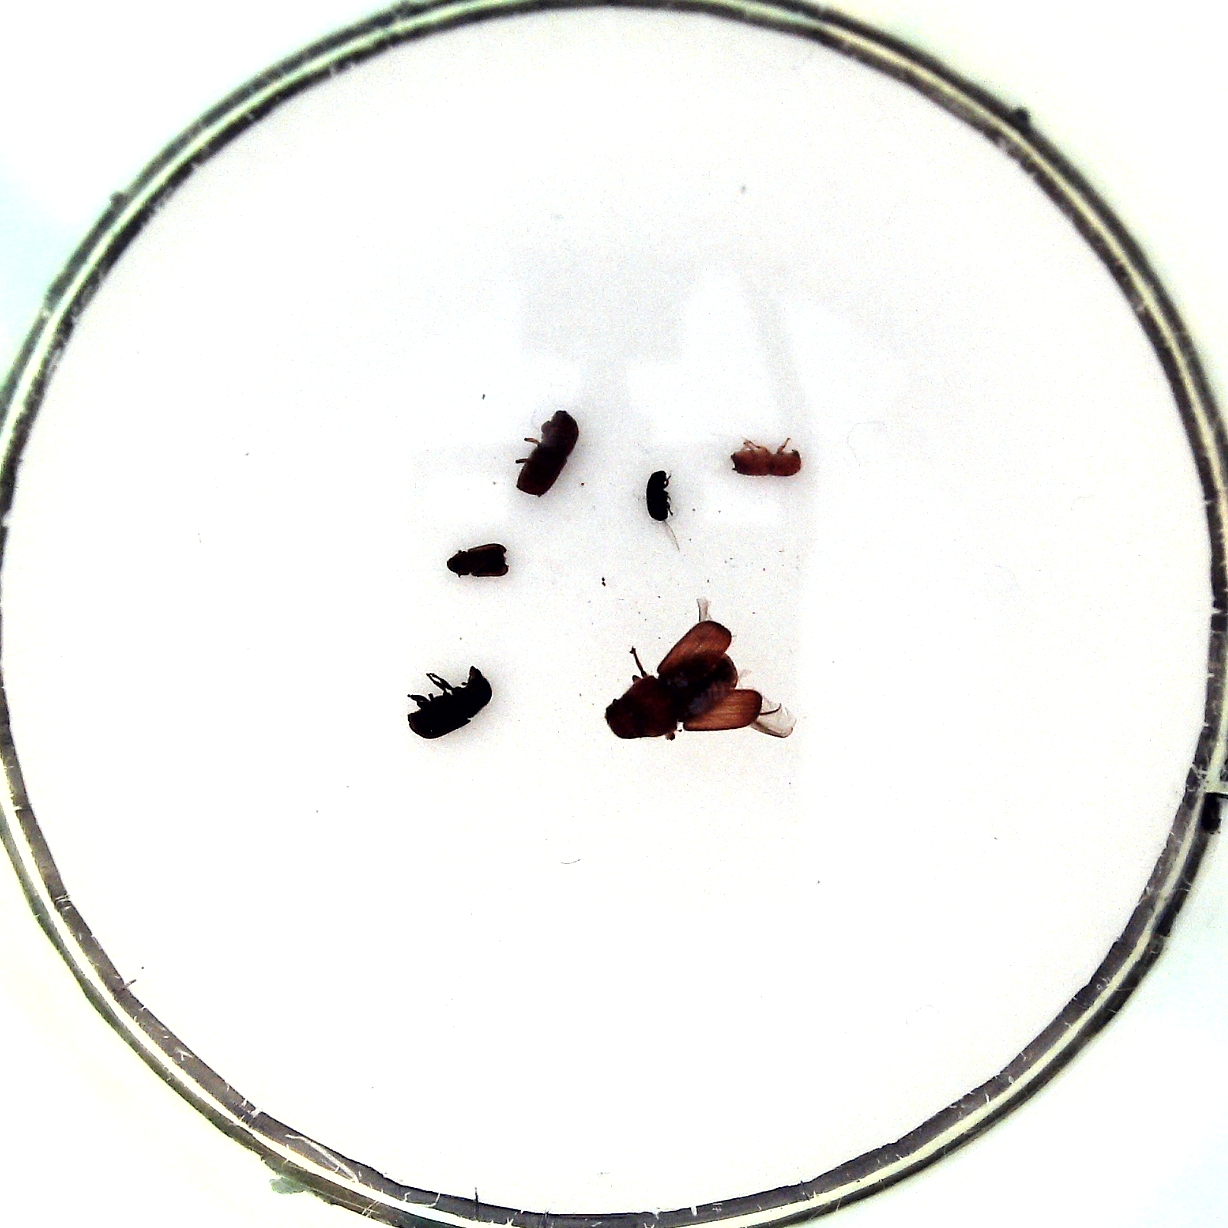Leconte: (604, 651, 739, 740)
acuminatus: (645, 470, 671, 521)
armandi: (406, 666, 493, 740)
coleoptera: (730, 446, 802, 477), (446, 543, 511, 577)
linnaeus: (515, 409, 579, 499)
